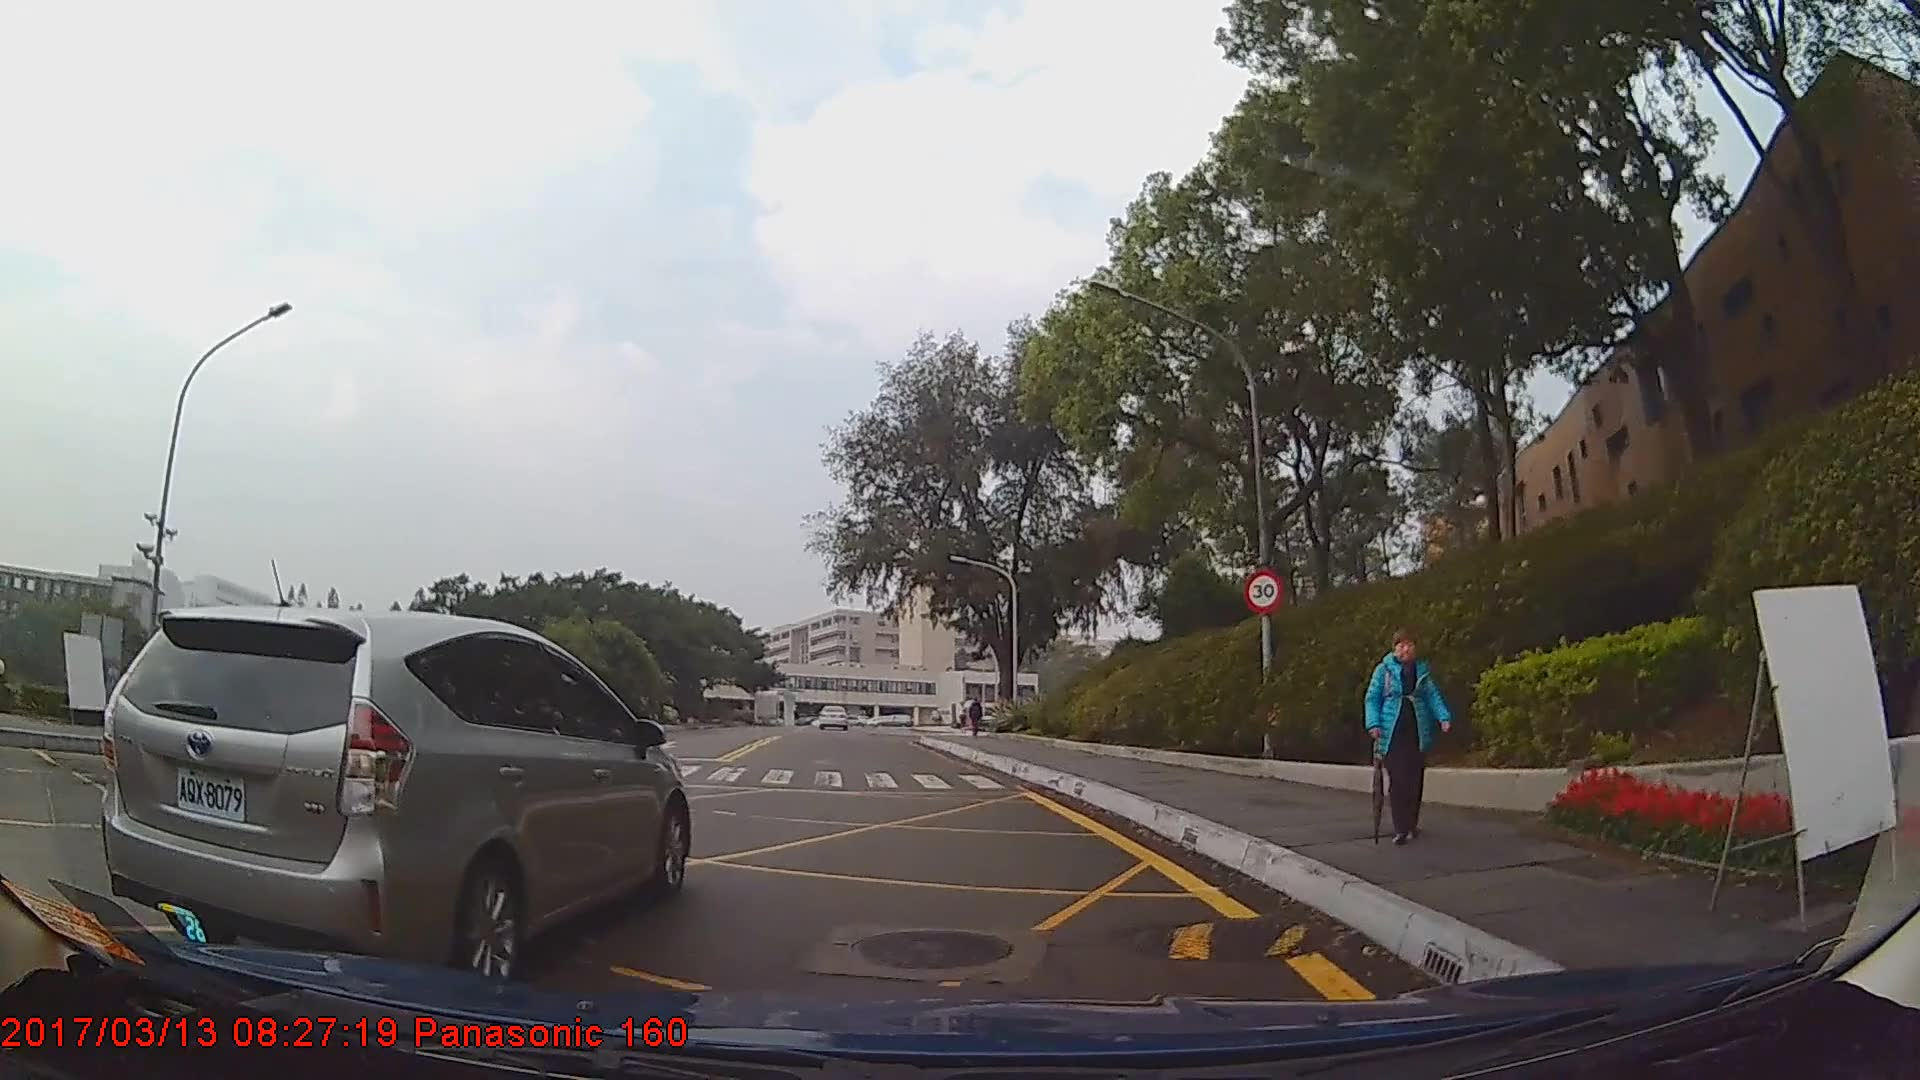pedestrian: (1351, 615, 1466, 863), (968, 698, 988, 739)
vehicle: (99, 609, 691, 984), (815, 702, 849, 729)
